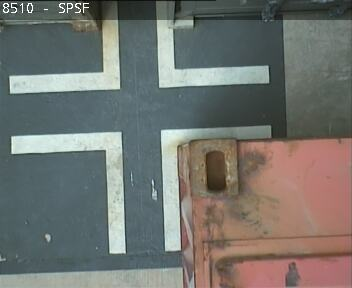groundmarker_1: (9, 123, 270, 253), (8, 1, 270, 93)
